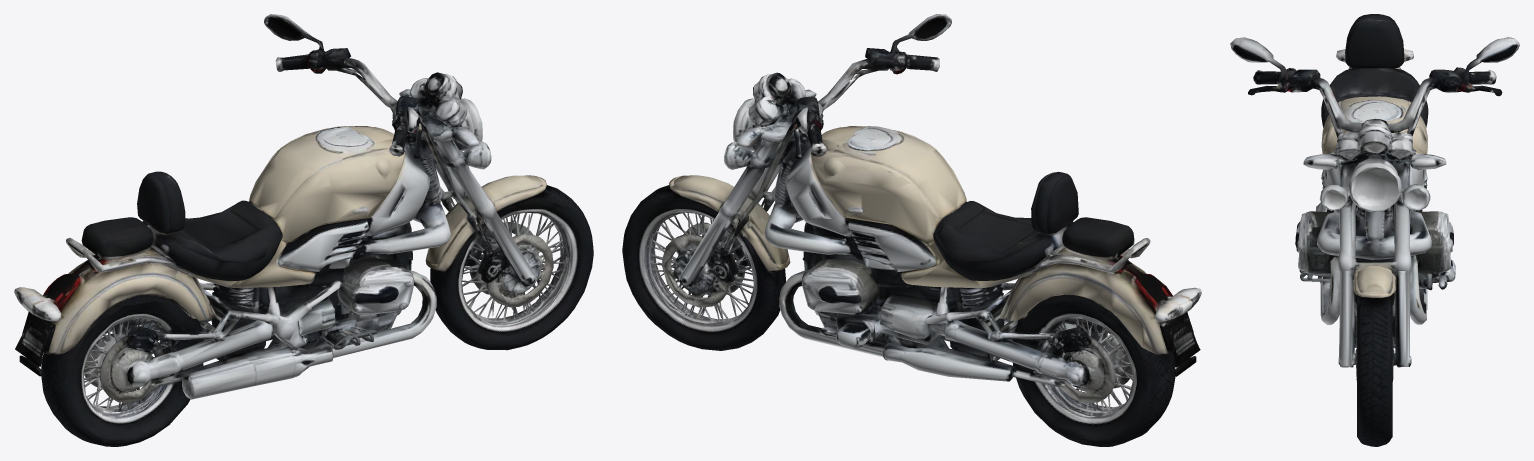
The model's file is bmw_bike.glb.
The picture shows the model from 3 angles, left to right: view 1: azimuth 30°, elevation 25°; view 2: azimuth 150°, elevation 25°; view 3: azimuth 270°, elevation 25°; orthographic projection.
Visible parts, largest first — view 1: node_0; view 2: node_0; view 3: node_0.
Boxes of the visible parts, <box> form: node_0: <box>14,14,593,446</box>; node_0: <box>622,14,1201,446</box>; node_0: <box>1230,14,1519,446</box>.
Bounding box in the file's own units: 1.14 × 0.6289 × 0.5159.
Materials: 1 (1 with a texture image).
